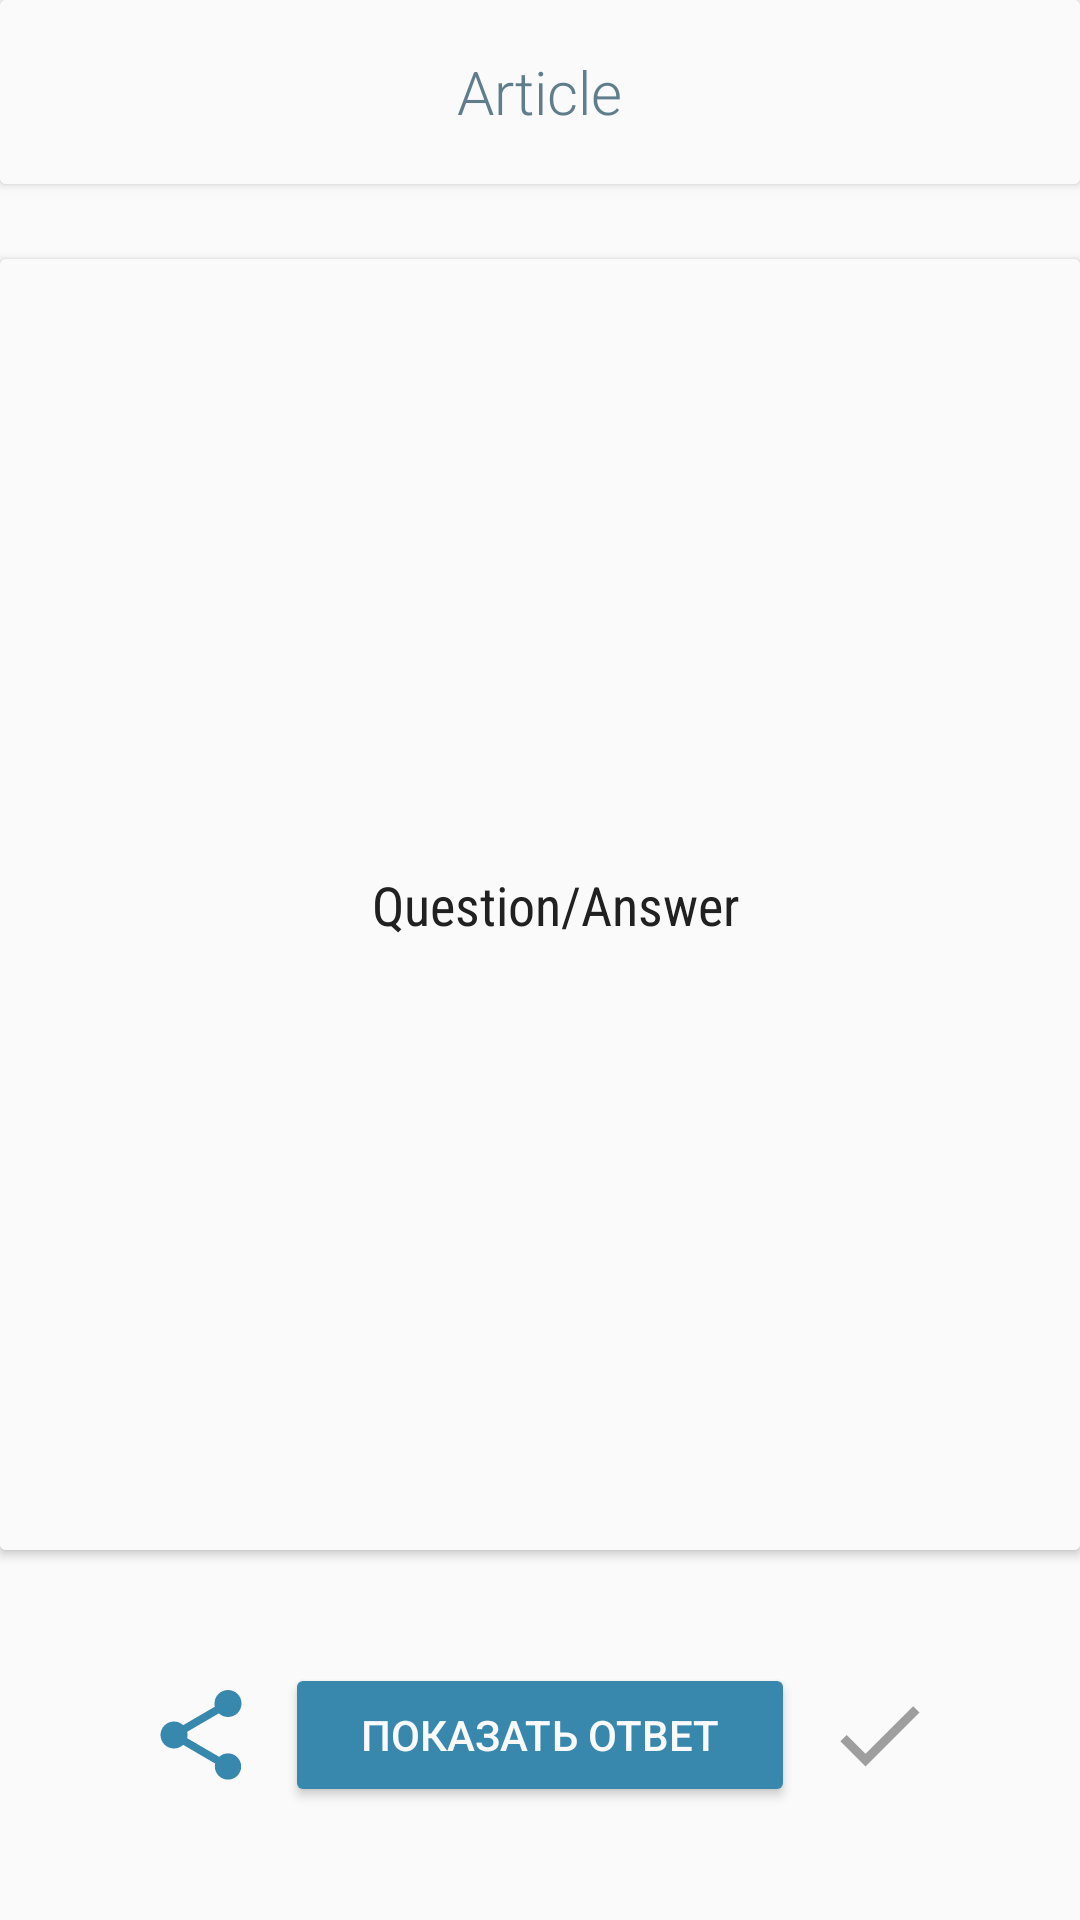

Icons on this 1080w x 1920h Android screen, each with the point to tap as (x=x, y=y):
custom check guess: (x=879, y=1736)
share: (x=201, y=1735)
